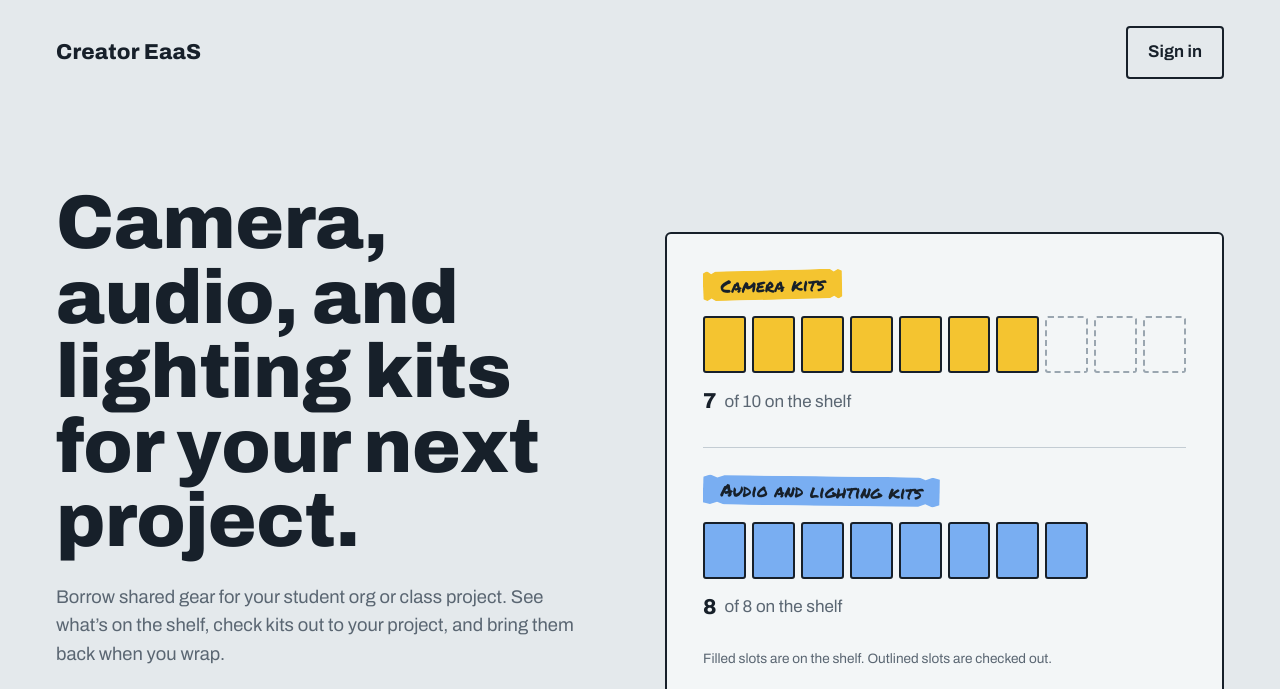
Test: checking in one kit uses the singular
Expected: the text "Camera kits" is shown, [703,268,843,301]
Click the button "Sign in" in the row of "Creator EaaS": (1175, 52) [1126,26,1224,79]
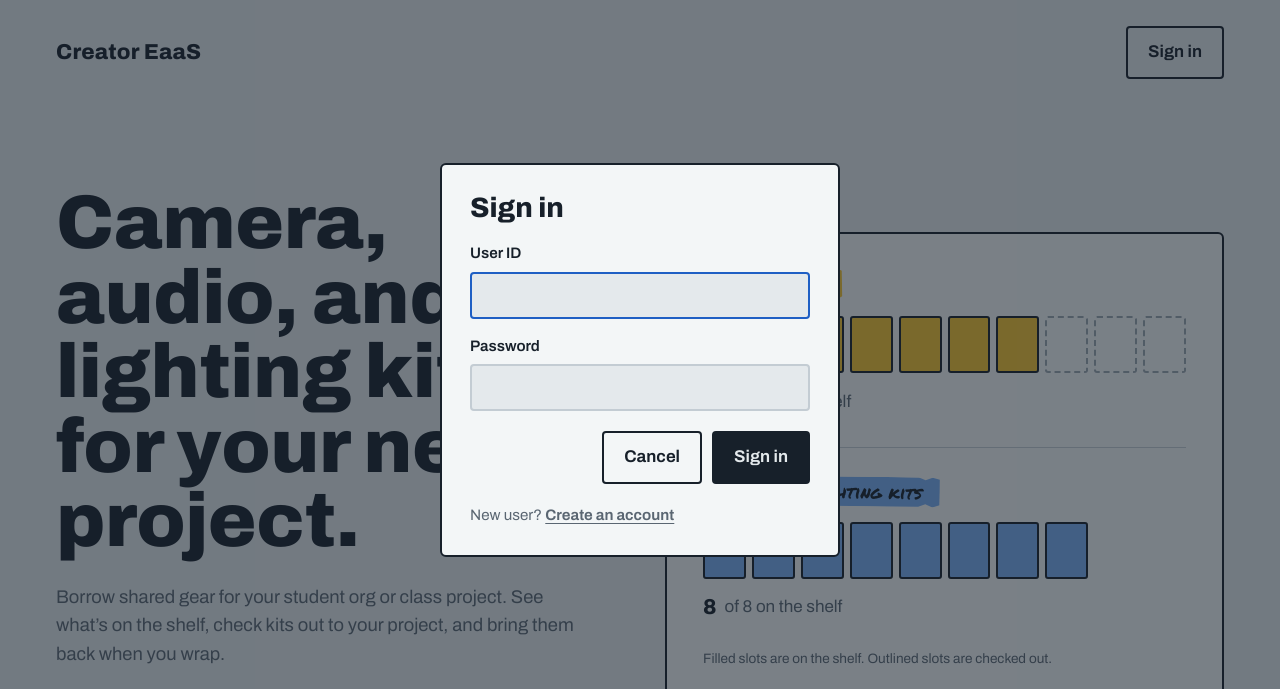
In the field labelled "User ID": (640, 295) [470,272,810,318], type "alice"
In the password field labelled "Password": (640, 387) [470,364,810,411], type "pw-123"
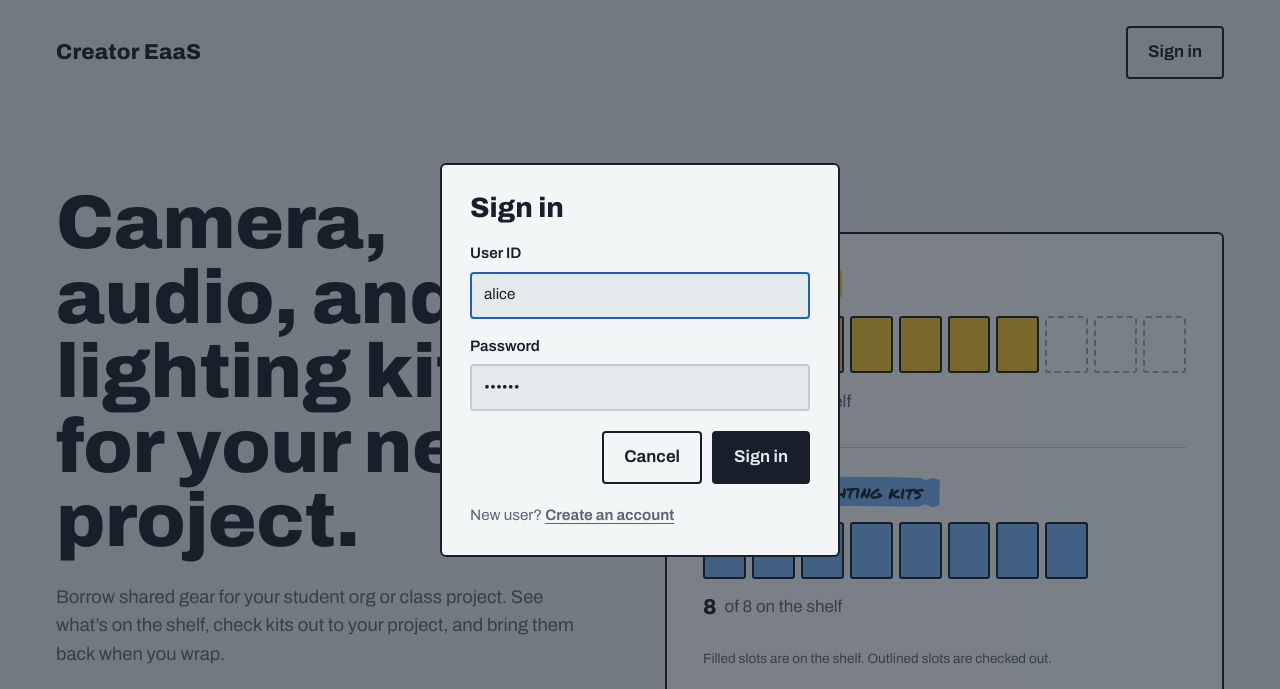
Click the button "Sign in": (761, 457) [712,431,810,484]
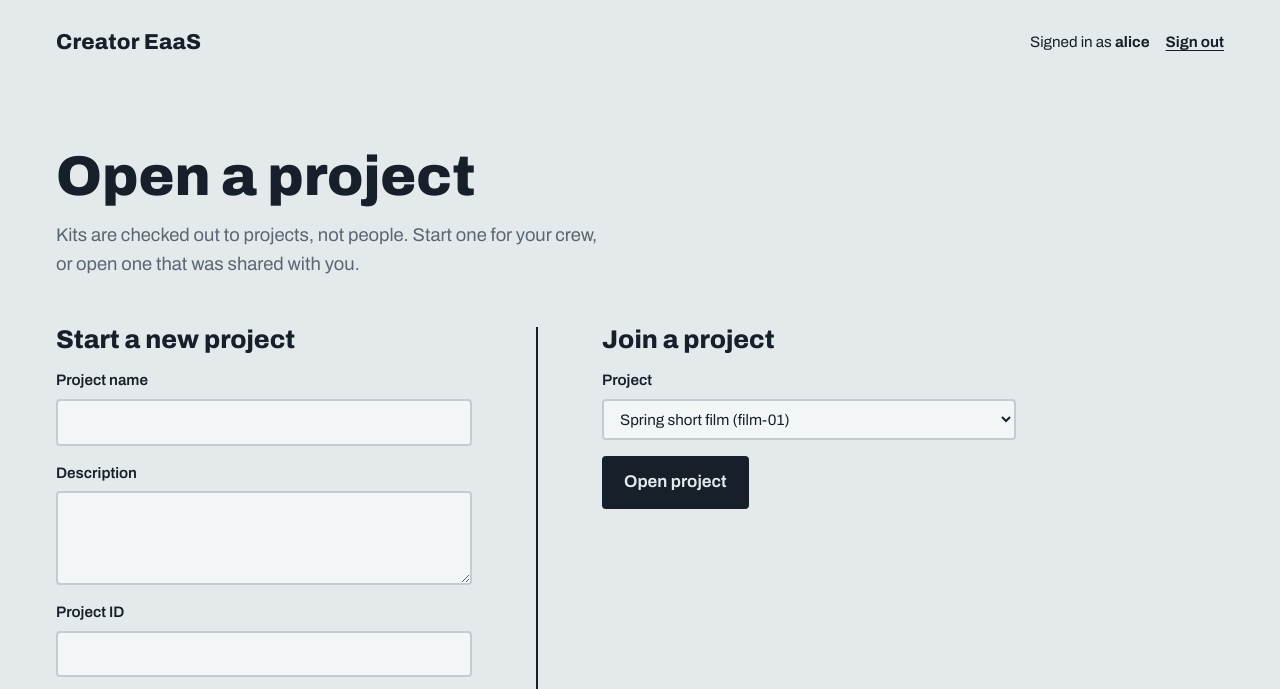
Expected: the heading "Open a project" is shown, [56,146,475,208]
Result: the dropdown labelled "Project" is enabled
Select "Spring short film (film-01)" in the dropdown labelled "Project": (809, 420) [602,399,1016,440]
Click the button "Open project": (675, 482) [602,456,749,509]
(page scrolled)
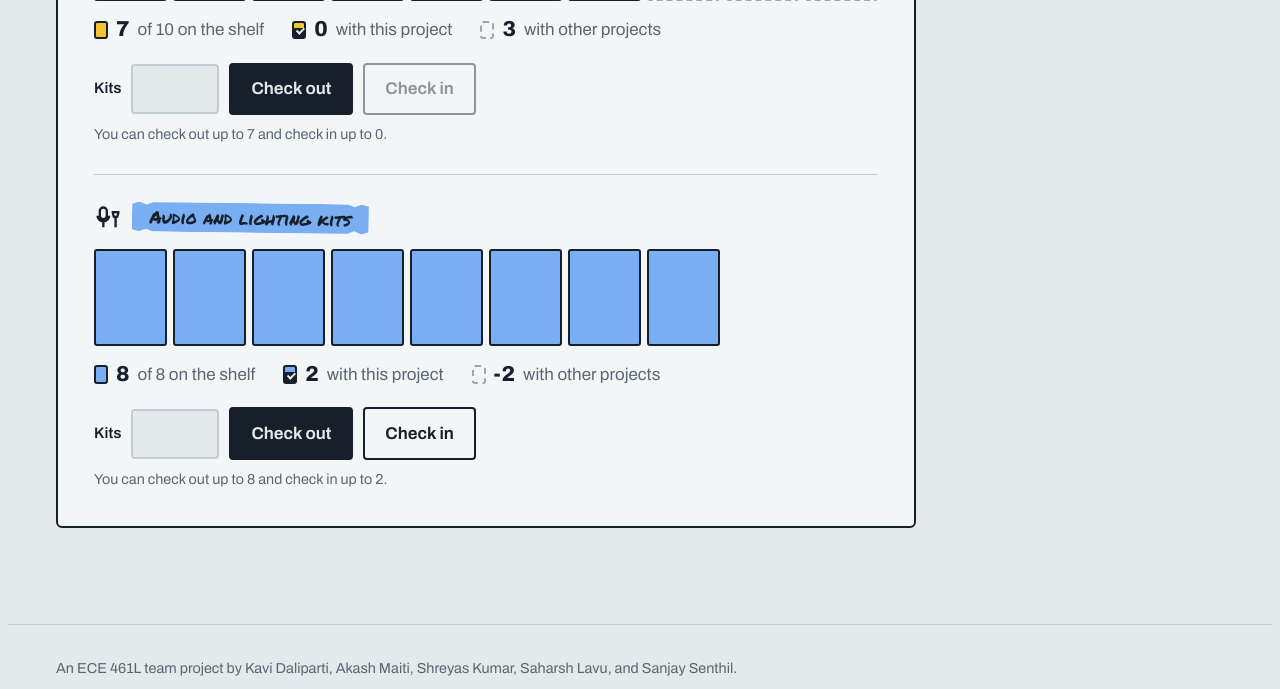
In the number field named "Audio and lighting kits": (175, 434) [131,409,219,458], type "1"
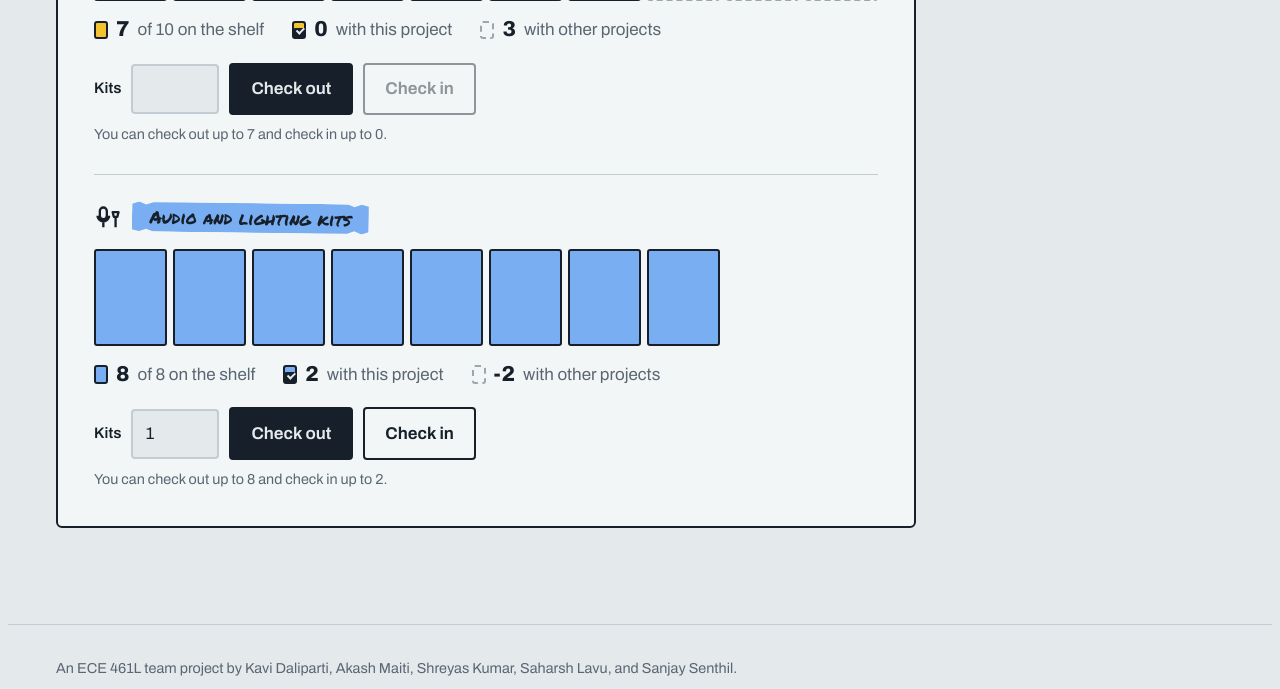
Click the button "Check in" below "-2": (420, 434) [363,407,476,460]
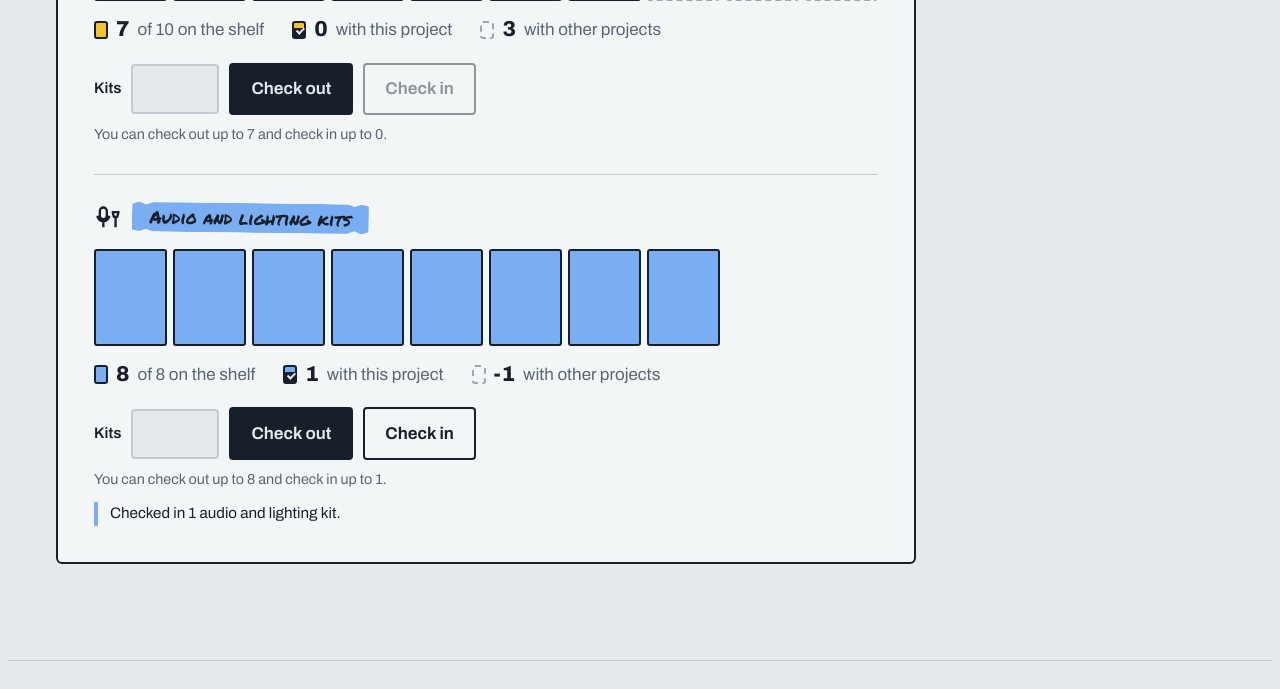
Result: the message reads "Checked in 1 audio and lighting kit." at [110,506,341,522]
